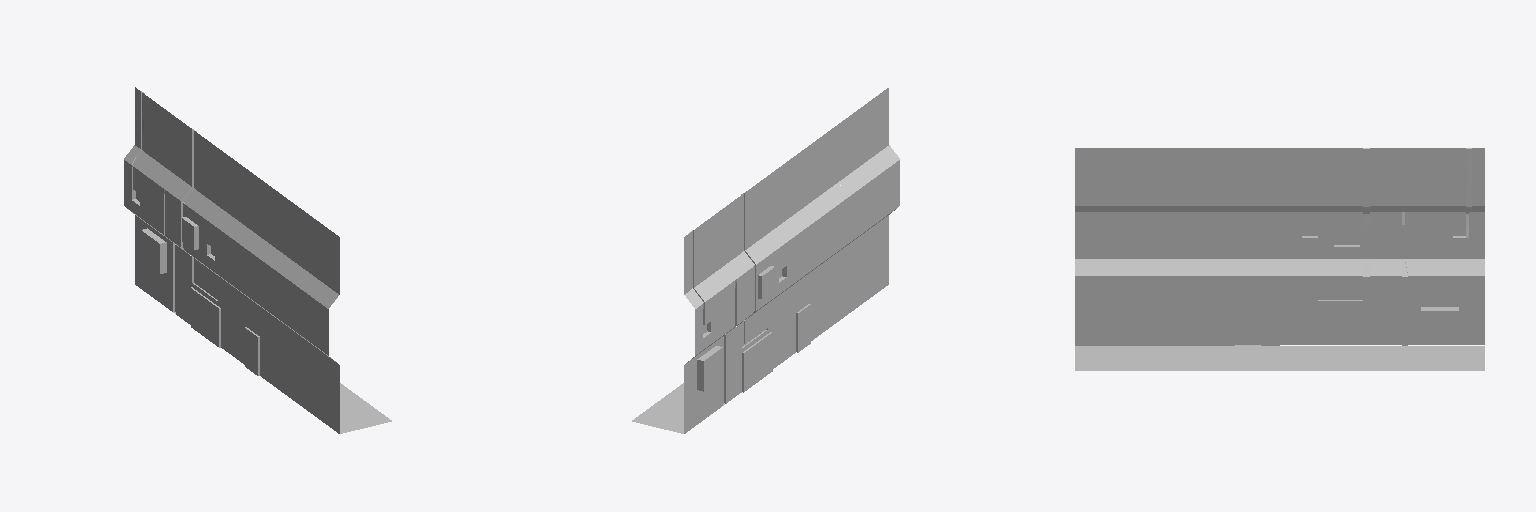
The model's file is street_wall1.obj.
The picture shows the model from 3 angles: view 1: azimuth 30°, elevation 25°; view 2: azimuth 150°, elevation 25°; view 3: azimuth 270°, elevation 25°; orthographic projection.
Parts seen in each view (by area): view 1: UpWallDoor_02.001_Plane.022, UpWallStore_01_Plane.025, UpWallWindow_01_Plane.011, UpWallDoor_02_Plane.022, WallDoor_02.005_Plane.026, WallStore_01_Plane.006, WallDoor_02.001_Plane.015, WallWindow_01_Plane.007, Ground_01_Plane.018; view 2: UpWallWindow_01_Plane.011, UpWallStore_01_Plane.025, UpWallDoor_02.001_Plane.022, UpWallDoor_02_Plane.022, WallWindow_01_Plane.007, WallStore_01_Plane.006, WallDoor_02.001_Plane.015, WallDoor_02.005_Plane.026, Ground_04_Plane.018; view 3: UpWallStore_01_Plane.025, UpWallDoor_02_Plane.022, UpWallWindow_01_Plane.011, UpWallDoor_02.001_Plane.022, WallDoor_02.001_Plane.015, WallDoor_02.005_Plane.026, WallStore_01_Plane.006, WallWindow_01_Plane.007, Ground_02_Plane.018, Ground_03_Plane.018, Ground_04_Plane.018, Ground_01_Plane.018.
Boxes of the visible parts, x1,y1,x2,y2 form: UpWallDoor_02.001_Plane.022: [277, 200, 339, 361]; UpWallStore_01_Plane.025: [175, 125, 236, 285]; UpWallWindow_01_Plane.011: [124, 87, 185, 249]; UpWallDoor_02_Plane.022: [226, 162, 287, 323]; WallDoor_02.005_Plane.026: [288, 327, 339, 433]; WallStore_01_Plane.006: [186, 253, 236, 358]; WallDoor_02.001_Plane.015: [237, 290, 287, 395]; WallWindow_01_Plane.007: [135, 215, 185, 321]; Ground_01_Plane.018: [297, 384, 391, 433]; UpWallWindow_01_Plane.011: [684, 199, 746, 361]; UpWallStore_01_Plane.025: [736, 162, 797, 323]; UpWallDoor_02.001_Plane.022: [838, 88, 899, 249]; UpWallDoor_02_Plane.022: [787, 125, 848, 285]; WallWindow_01_Plane.007: [684, 327, 735, 433]; WallStore_01_Plane.006: [736, 290, 786, 395]; WallDoor_02.001_Plane.015: [787, 253, 837, 358]; WallDoor_02.005_Plane.026: [838, 215, 888, 321]; Ground_04_Plane.018: [632, 384, 724, 433]; UpWallStore_01_Plane.025: [1280, 148, 1382, 276]; UpWallDoor_02_Plane.022: [1177, 148, 1279, 275]; UpWallWindow_01_Plane.011: [1383, 148, 1484, 276]; UpWallDoor_02.001_Plane.022: [1075, 148, 1176, 275]; WallDoor_02.001_Plane.015: [1177, 276, 1279, 345]; WallDoor_02.005_Plane.026: [1075, 276, 1176, 345]; WallStore_01_Plane.006: [1280, 276, 1382, 344]; WallWindow_01_Plane.007: [1383, 276, 1484, 345]; Ground_02_Plane.018: [1177, 346, 1279, 370]; Ground_03_Plane.018: [1280, 346, 1382, 370]; Ground_04_Plane.018: [1383, 346, 1484, 370]; Ground_01_Plane.018: [1075, 346, 1176, 370].
Size of the model in its own units: 6.2 by 17 by 32.